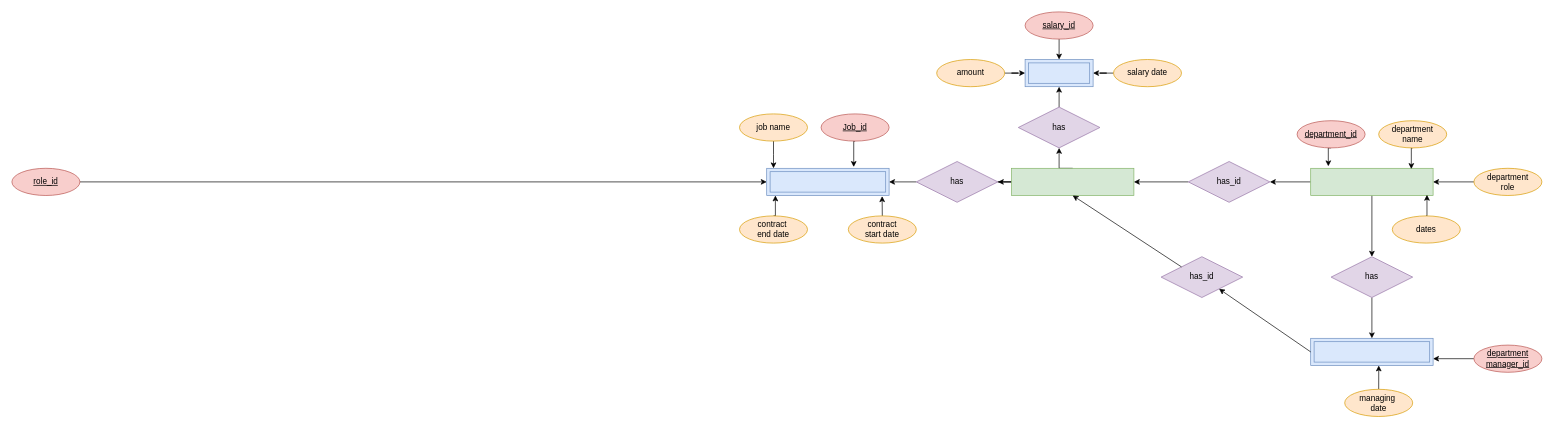
The diagram is 1554 pixels wide and 428 high, and some of its shapes have lost their labels. Here are the shapes that lost their labels. From the top down, the box of each, then its label:
(1024, 59, 1093, 87): SALARY
(766, 168, 889, 196): JOB
(1011, 168, 1134, 196): EMPLOYEE
(1310, 168, 1433, 196): DEPARTMENT
(1310, 338, 1433, 366): MANAGER
